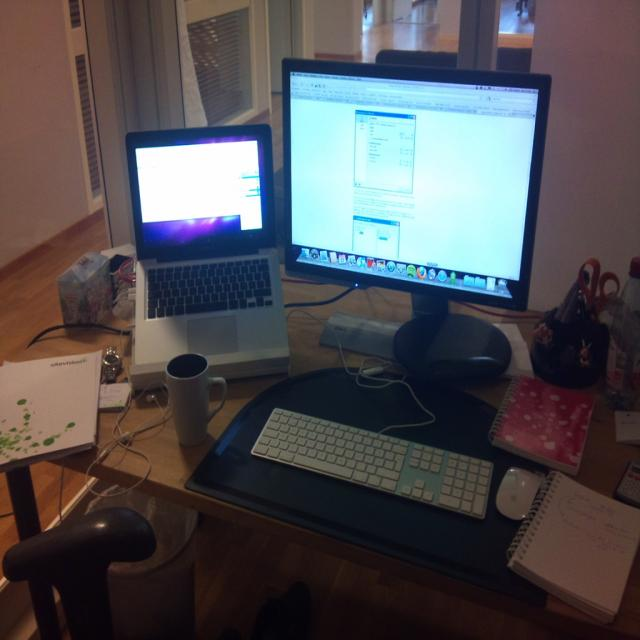desk: (0, 263, 639, 639)
keyboard: (252, 406, 493, 523)
laptop: (125, 125, 291, 383)
mouse: (495, 467, 543, 520)
tv: (282, 57, 552, 316)
